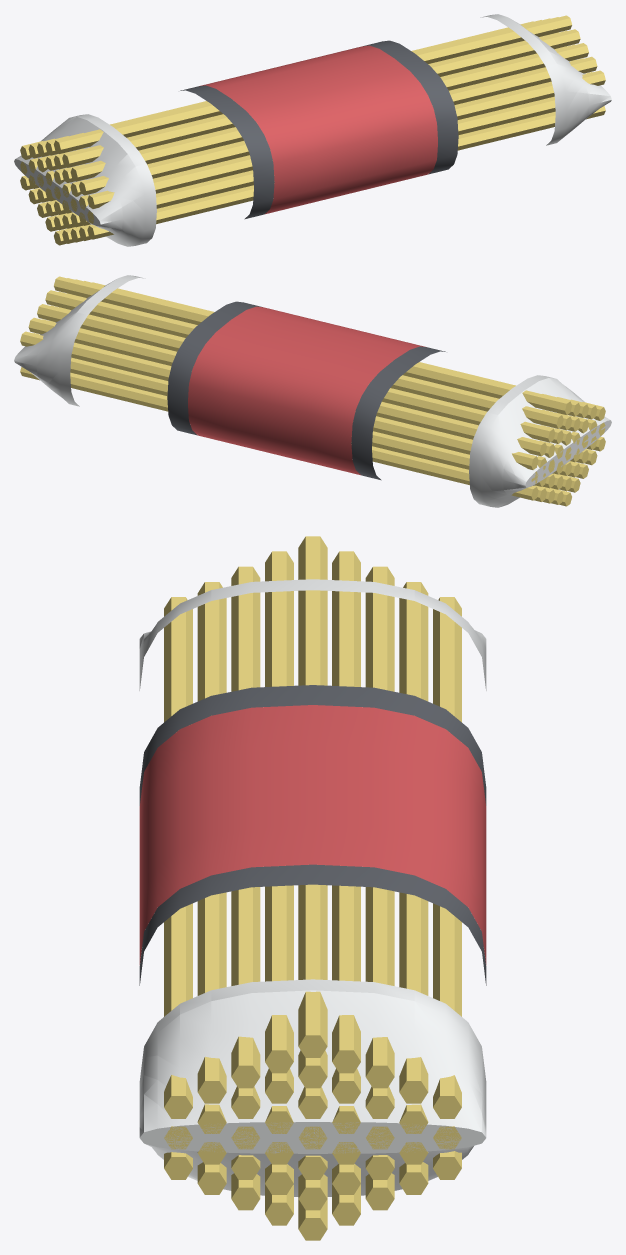
File: fresh-produce-and-groceries-spaghetti-pack-0dc10429__24423.glb
3 views of the same model, one above another, from view 1: azimuth 30°, elevation 25°; view 2: azimuth 150°, elevation 25°; view 3: azimuth 270°, elevation 25° (orthographic). The views are drawn at different scales.
Visible parts, largest first — view 1: spaghetti-pack; view 2: spaghetti-pack; view 3: spaghetti-pack.
Part boxes in pixels (left/top/right/bottom): spaghetti-pack: left=14, top=14, right=611, bottom=246; spaghetti-pack: left=14, top=275, right=611, bottom=507; spaghetti-pack: left=139, top=536, right=486, bottom=1240.
Bounding box in the file's own units: 0.26 × 0.0504 × 0.0764.
